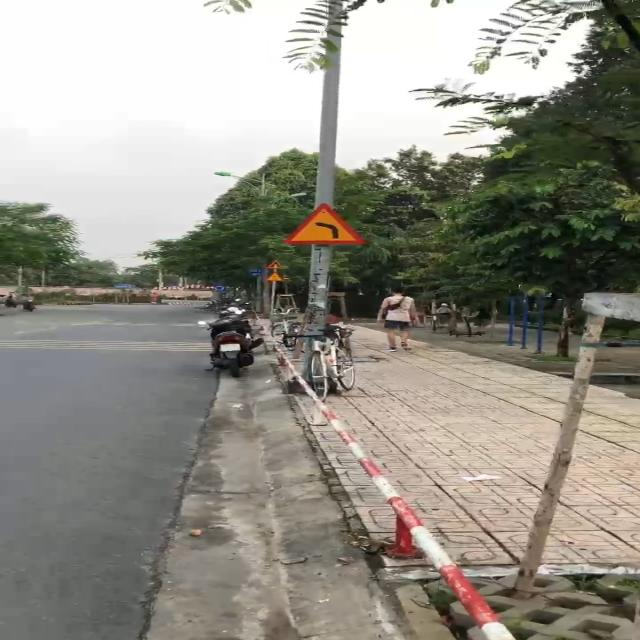Bien bao cho ngoat nguy hiem: (282, 198, 366, 245)
